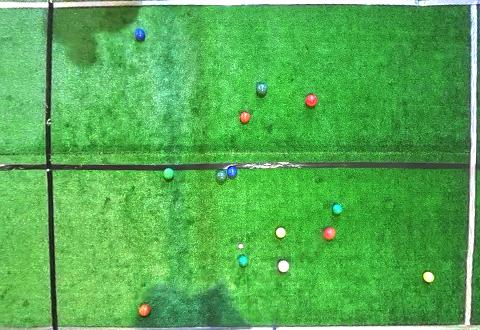blue: (227, 166, 238, 178), (135, 30, 145, 41)
green: (256, 83, 268, 96), (163, 168, 175, 180), (238, 255, 249, 267), (216, 170, 227, 181), (333, 204, 343, 214)
red: (305, 94, 317, 107), (324, 228, 336, 240), (139, 304, 151, 316), (278, 260, 289, 272), (240, 112, 250, 123)
vline: (1, 1, 61, 329), (461, 1, 479, 329)
white: (238, 244, 243, 249)
yellow: (423, 272, 434, 283), (276, 228, 286, 238)
